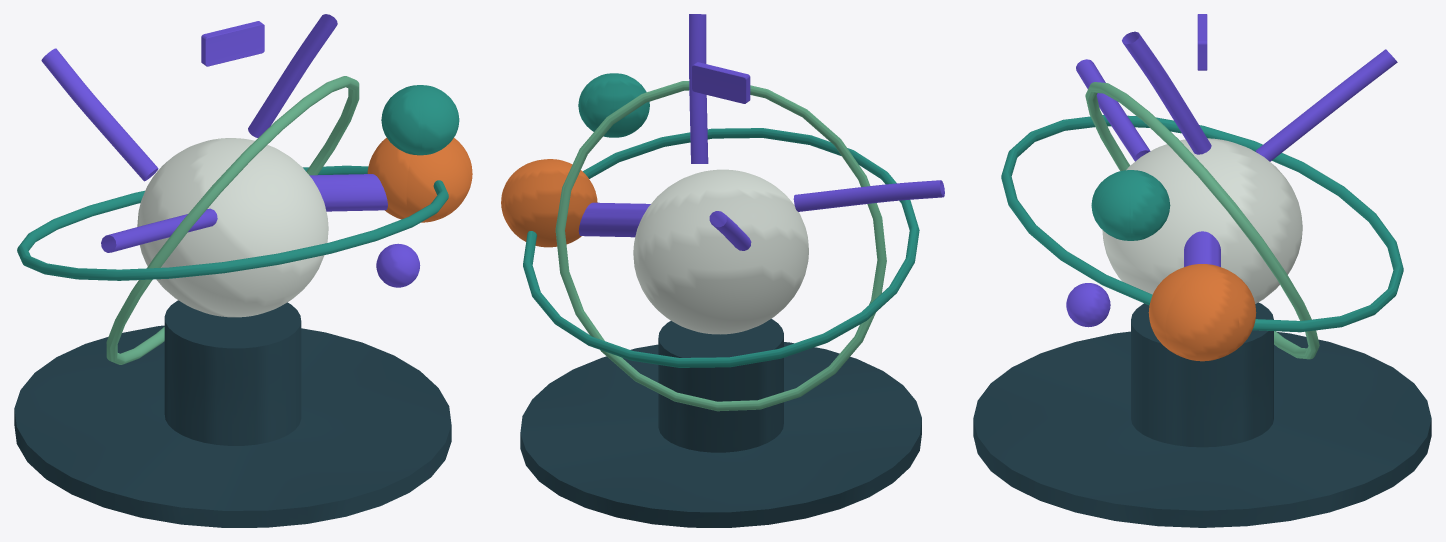
Rendered from 0520_生活中的化学图鉴_蛋白质.glb.
The picture shows the model from 3 angles, left to right: view 1: azimuth 30°, elevation 25°; view 2: azimuth 150°, elevation 25°; view 3: azimuth 270°, elevation 25°; orthographic projection. The views are drawn at different scales.
Parts seen in each view (by area): view 1: card_0520; view 2: card_0520; view 3: card_0520.
Boxes of the visible parts, <box> form: card_0520: <box>14,14,472,527</box>; card_0520: <box>501,14,944,527</box>; card_0520: <box>973,14,1431,527</box>.
Bounding box in the file's own units: 1.04 × 1 × 0.9622.
